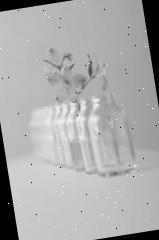glass: (85, 90, 139, 180)
